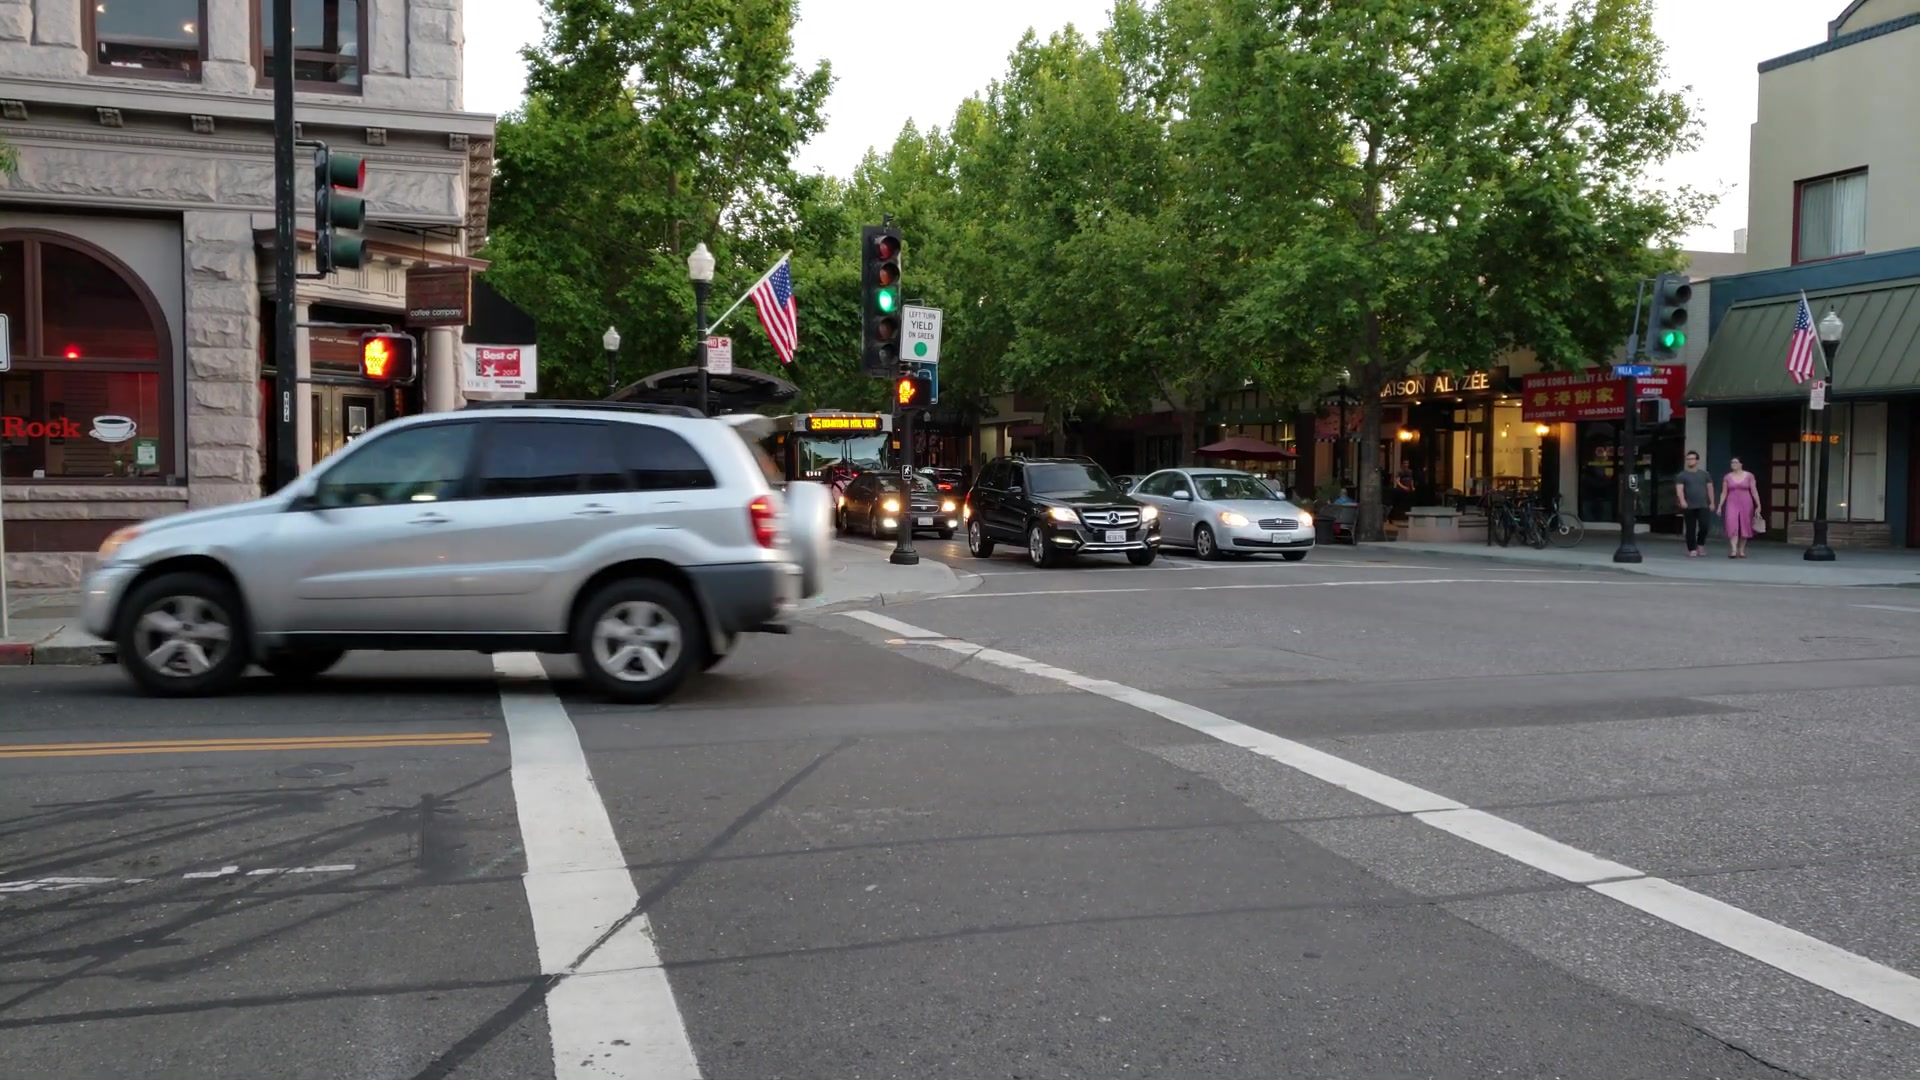vehicle: (76, 396, 829, 724), (964, 455, 1159, 570), (1133, 469, 1316, 564)
